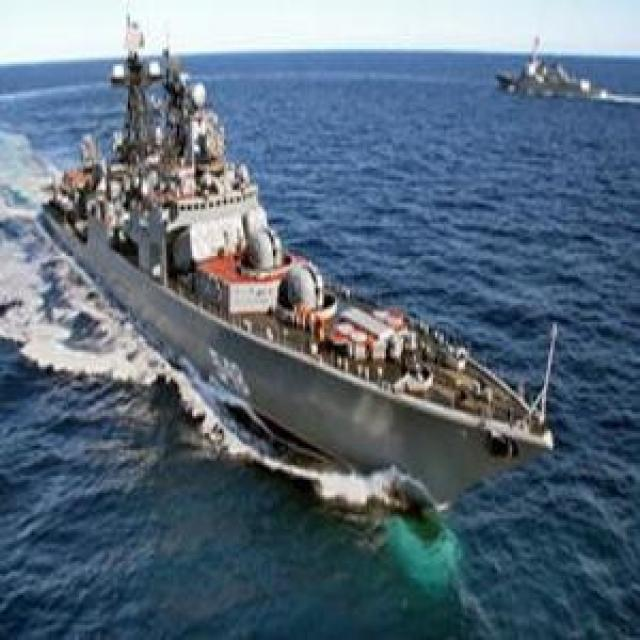navalvessels: (44, 7, 569, 528), (492, 0, 640, 114)
